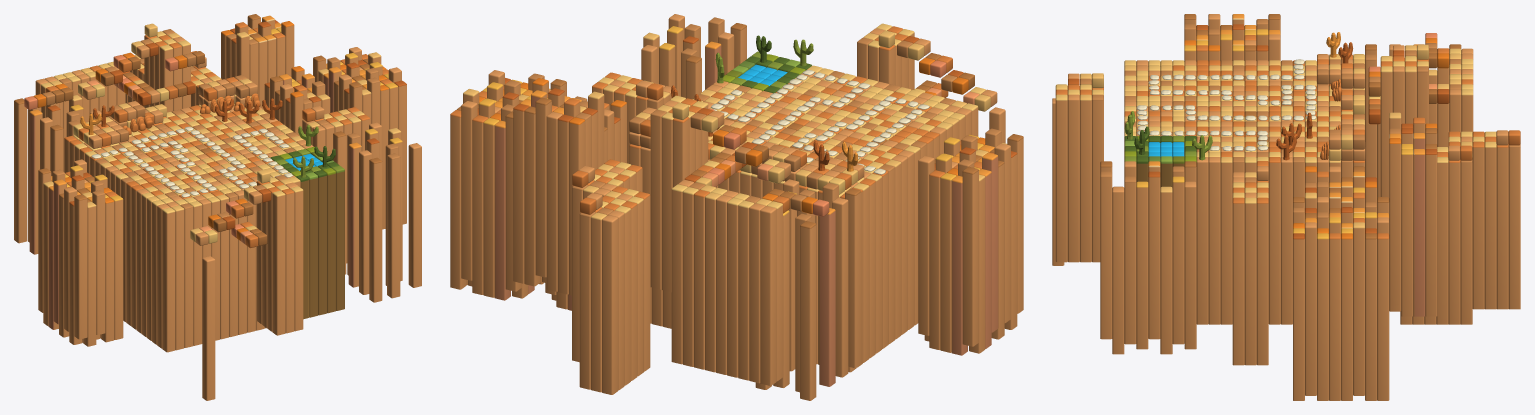
File: enviro.fbx
The picture shows the model from 3 angles, left to right: view 1: azimuth 30°, elevation 25°; view 2: azimuth 150°, elevation 25°; view 3: azimuth 270°, elevation 25°; orthographic projection. The views are drawn at different scales.
Parts seen in each view (by area): view 1: desert ground1.140, desert ground1.168, desert ground14\.099, desert ground7.118, desert ground10.176, desert ground14\.104, desert ground10.199, desert ground14\.102, desert ground11.095, desert ground10.175, desert ground11.096, desert ground7.130 (+59 smaller); view 2: desert ground14\.107, desert ground10.168, desert ground14\.102, desert ground10.191, desert ground11.096, desert ground10.178, desert ground14\.101, desert ground10.174, desert ground14\.090, desert ground10.195, desert ground11.093, desert ground14\.089 (+61 smaller); view 3: desert ground7.117, desert ground15.077, desert ground5.066, desert ground7.118, desert ground10.177, desert ground5.065, desert ground2.131, desert ground13.195, desert ground1.150, desert ground13.196, desert ground13.211, desert ground1.164 (+37 smaller).
Part boxes in pixels (x1=…): desert ground1.140: x1=162, y1=207, x2=175, y2=352; desert ground1.168: x1=272, y1=190, x2=285, y2=335; desert ground14\.099: x1=369, y1=157, x2=382, y2=302; desert ground7.118: x1=387, y1=153, x2=400, y2=298; desert ground10.176: x1=408, y1=143, x2=421, y2=287; desert ground14\.104: x1=74, y1=194, x2=87, y2=339; desert ground10.199: x1=202, y1=256, x2=215, y2=400; desert ground14\.102: x1=14, y1=98, x2=27, y2=243; desert ground11.095: x1=348, y1=142, x2=361, y2=287; desert ground10.175: x1=359, y1=150, x2=371, y2=294; desert ground11.096: x1=29, y1=109, x2=42, y2=254; desert ground7.130: x1=92, y1=190, x2=105, y2=334; desert ground14\.107: x1=962, y1=166, x2=978, y2=346; desert ground10.168: x1=760, y1=206, x2=776, y2=385; desert ground14\.102: x1=800, y1=221, x2=816, y2=400; desert ground10.191: x1=602, y1=215, x2=618, y2=394; desert ground11.096: x1=819, y1=208, x2=835, y2=386; desert ground10.178: x1=832, y1=197, x2=848, y2=377; desert ground14\.101: x1=845, y1=188, x2=861, y2=367; desert ground10.174: x1=461, y1=101, x2=477, y2=280; desert ground14\.090: x1=535, y1=97, x2=551, y2=277; desert ground10.195: x1=918, y1=156, x2=934, y2=335; desert ground11.093: x1=494, y1=120, x2=510, y2=300; desert ground14\.089: x1=524, y1=106, x2=540, y2=286; desert ground7.117: x1=1124, y1=176, x2=1136, y2=344; desert ground15.077: x1=1148, y1=171, x2=1160, y2=339; desert ground5.066: x1=1172, y1=176, x2=1184, y2=344; desert ground7.118: x1=1100, y1=171, x2=1112, y2=339; desert ground10.177: x1=1184, y1=181, x2=1196, y2=349; desert ground5.065: x1=1136, y1=181, x2=1148, y2=349; desert ground2.131: x1=1160, y1=186, x2=1172, y2=354; desert ground13.195: x1=1256, y1=197, x2=1268, y2=365; desert ground1.150: x1=1244, y1=197, x2=1256, y2=365; desert ground13.196: x1=1232, y1=197, x2=1244, y2=365; desert ground13.211: x1=1472, y1=141, x2=1484, y2=309; desert ground1.164: x1=1484, y1=141, x2=1496, y2=309.
Bounding box in the file's own units: 4197 × 2500 × 3894.
